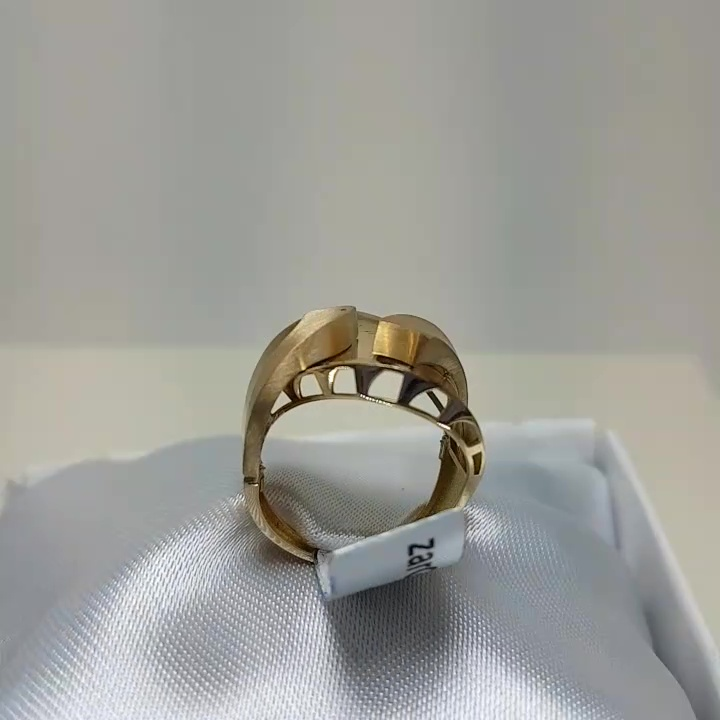Ring 4: (228, 279, 506, 594)
